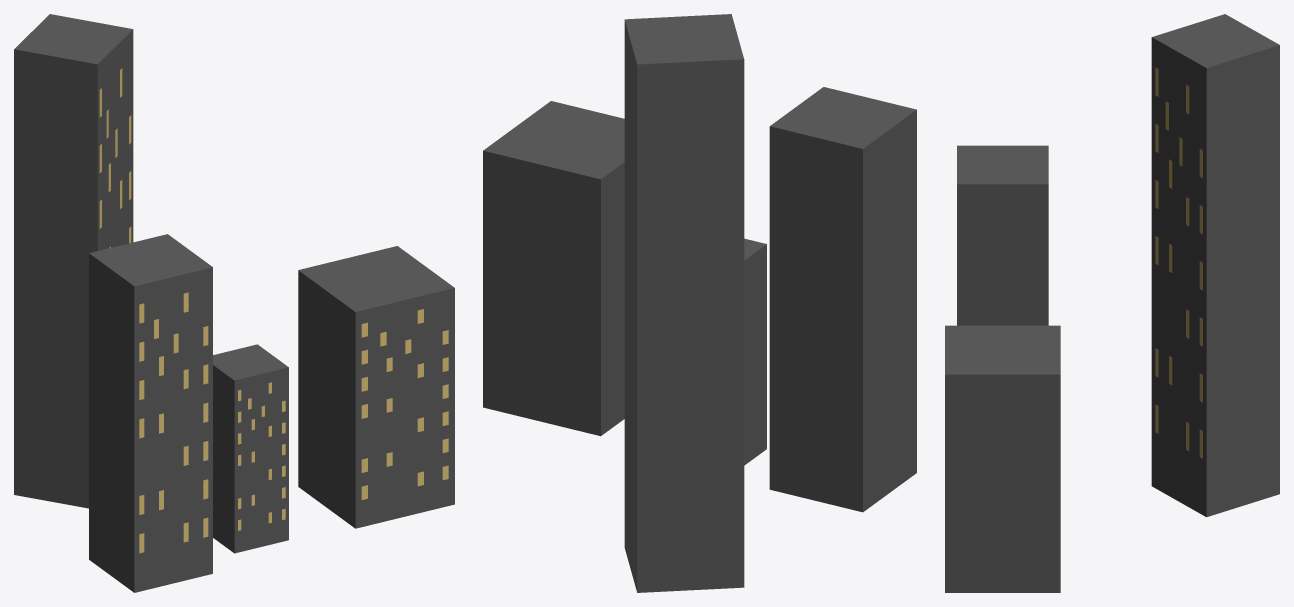
Rendered from Skyscraper_BG.fbx.
The picture shows the model from 3 angles, left to right: view 1: azimuth 30°, elevation 25°; view 2: azimuth 150°, elevation 25°; view 3: azimuth 270°, elevation 25°; orthographic projection. The views are drawn at different scales.
Parts seen in each view (by area): view 1: Skyscraper_BG2, Skyscraper_BG1, Skyscraper_BG3, Skyscraper_BG; view 2: Skyscraper_BG2, Skyscraper_BG1, Skyscraper_BG3, Skyscraper_BG; view 3: Skyscraper_BG2, Skyscraper_BG3, Skyscraper_BG1.
Part boxes in pixels (x1,y1,x2,y2): Skyscraper_BG2: (14,14,133,508); Skyscraper_BG1: (89,234,212,592); Skyscraper_BG3: (298,246,454,528); Skyscraper_BG: (213,344,288,553); Skyscraper_BG2: (624,14,744,592); Skyscraper_BG1: (769,87,916,512); Skyscraper_BG3: (483,101,624,436); Skyscraper_BG: (744,238,766,465); Skyscraper_BG2: (1151,14,1279,517); Skyscraper_BG3: (945,325,1060,592); Skyscraper_BG1: (957,145,1048,325).
Size of the model in its own units: 1927 by 2610 by 1764.
